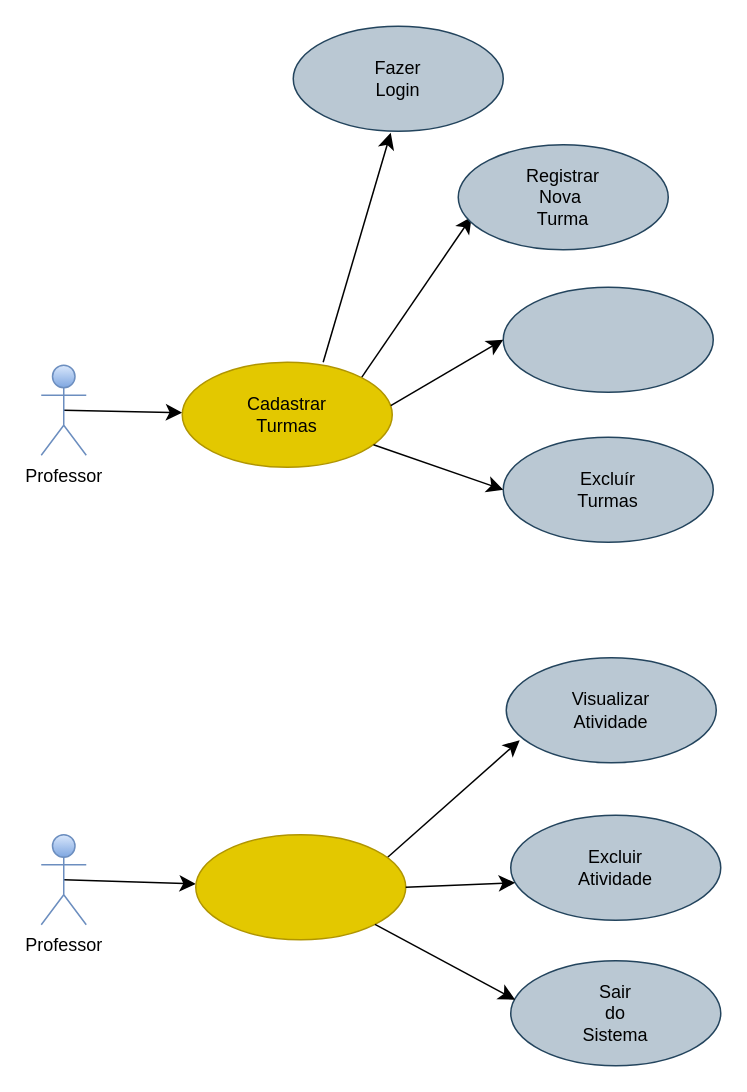
This 747x1092 diagram has some shape labels left out. Each missing label, with the box of its shape:
Registrar Atividade: (194, 833, 406, 940)
Visualizar Turma: (502, 286, 713, 392)
